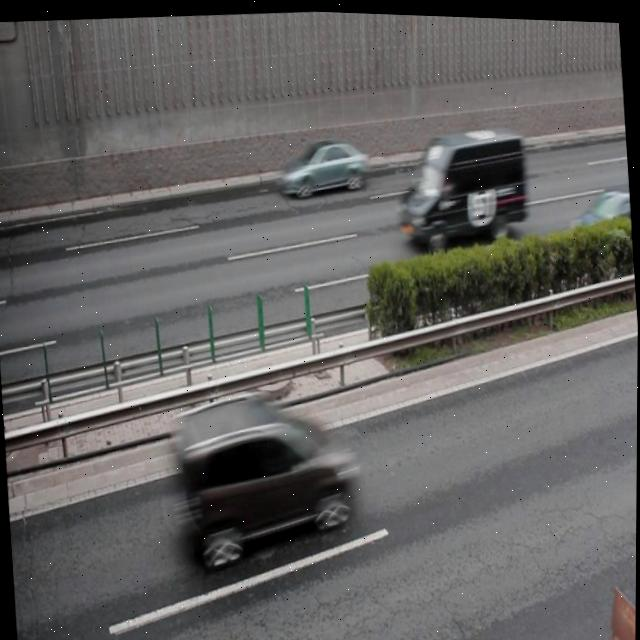car: (171, 383, 363, 570), (276, 130, 370, 199), (561, 179, 634, 262)
truck: (393, 119, 531, 251)
